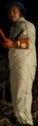gloves: (0, 60, 13, 86), (0, 61, 11, 89)
hard-hat: (0, 0, 16, 15)
